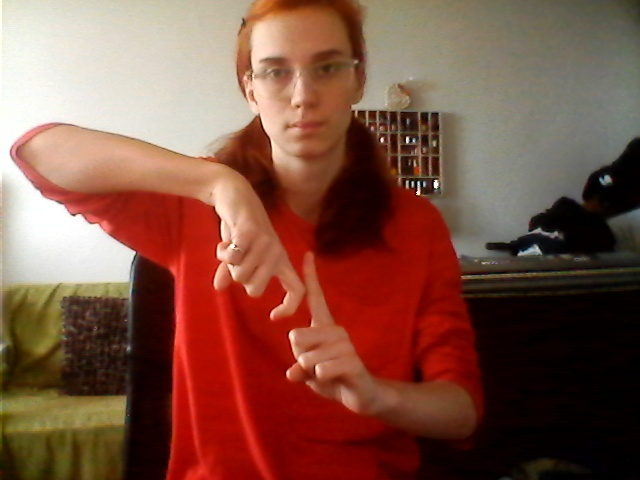k: (189, 193, 370, 425)
